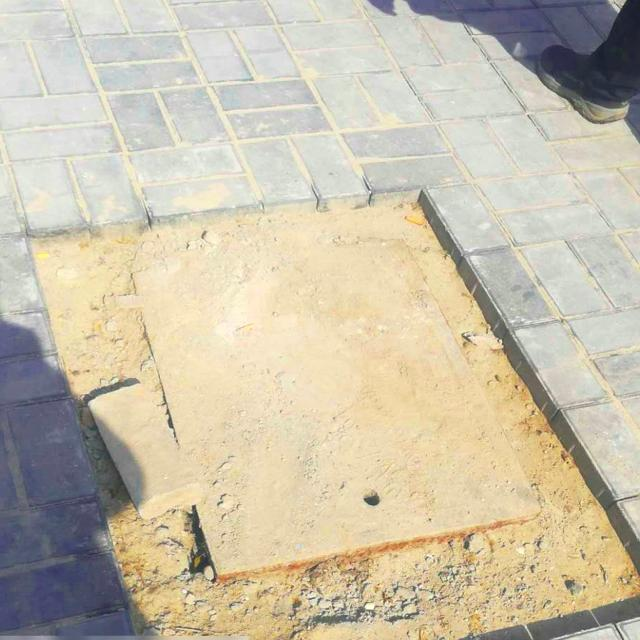circle: (26, 209, 640, 640)
